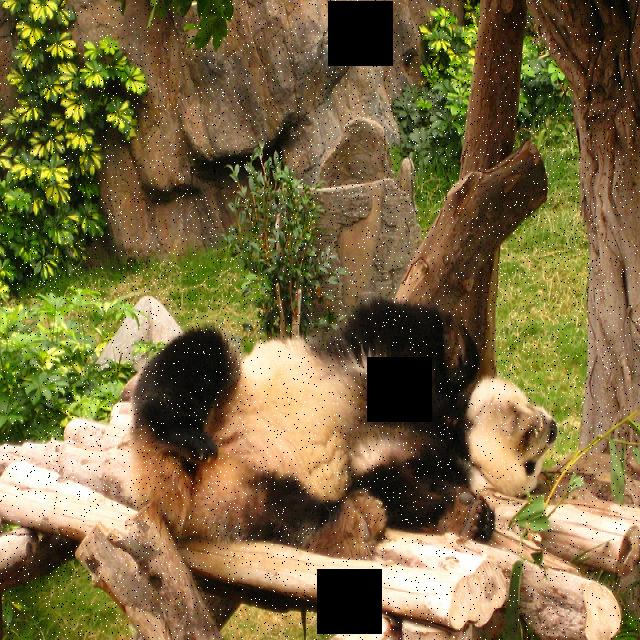Bear: (116, 302, 556, 537)
